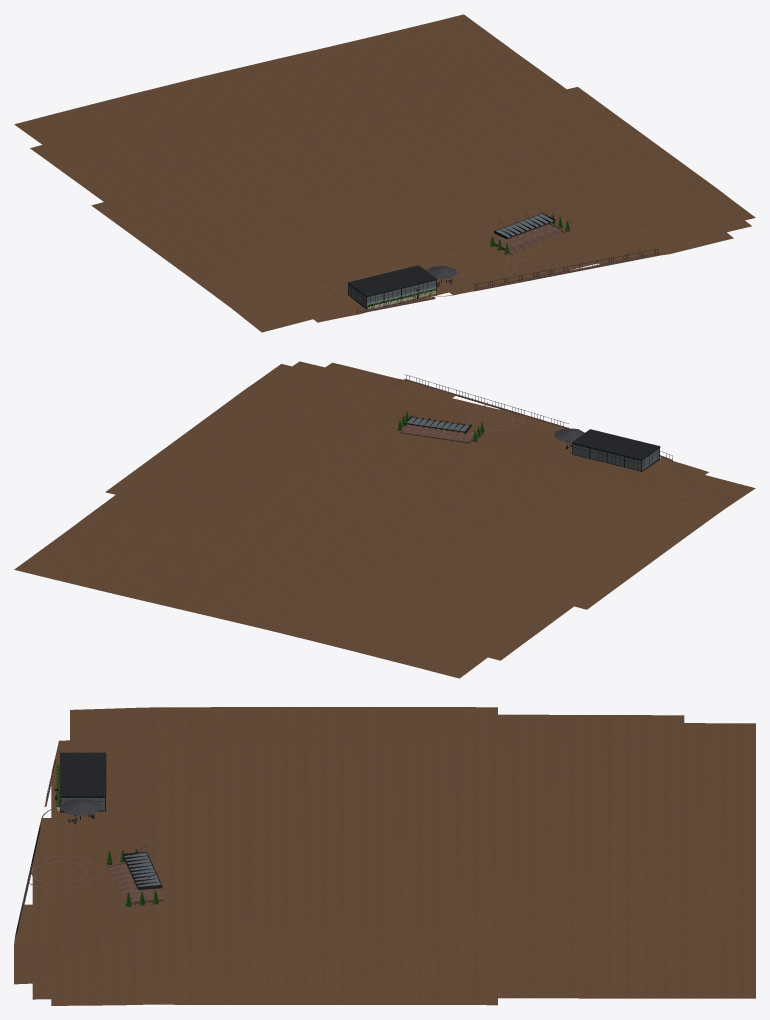
The model's file is hotel_plazoleta.glb.
The picture shows the model from 3 angles, top to bottom: view 1: azimuth 30°, elevation 25°; view 2: azimuth 150°, elevation 25°; view 3: azimuth 270°, elevation 25°; orthographic projection. The views are drawn at different scales.
Parts seen in each view (by area): view 1: Hotel_Plazoleta; view 2: Hotel_Plazoleta; view 3: Hotel_Plazoleta.
Part boxes in pixels (<box>): Hotel_Plazoleta: <box>14,14,755,332</box>; Hotel_Plazoleta: <box>14,361,755,678</box>; Hotel_Plazoleta: <box>14,707,755,1005</box>.
Size of the model in its own units: 132 by 6.23 by 140.
Materials: 10 (7 with a texture image).
